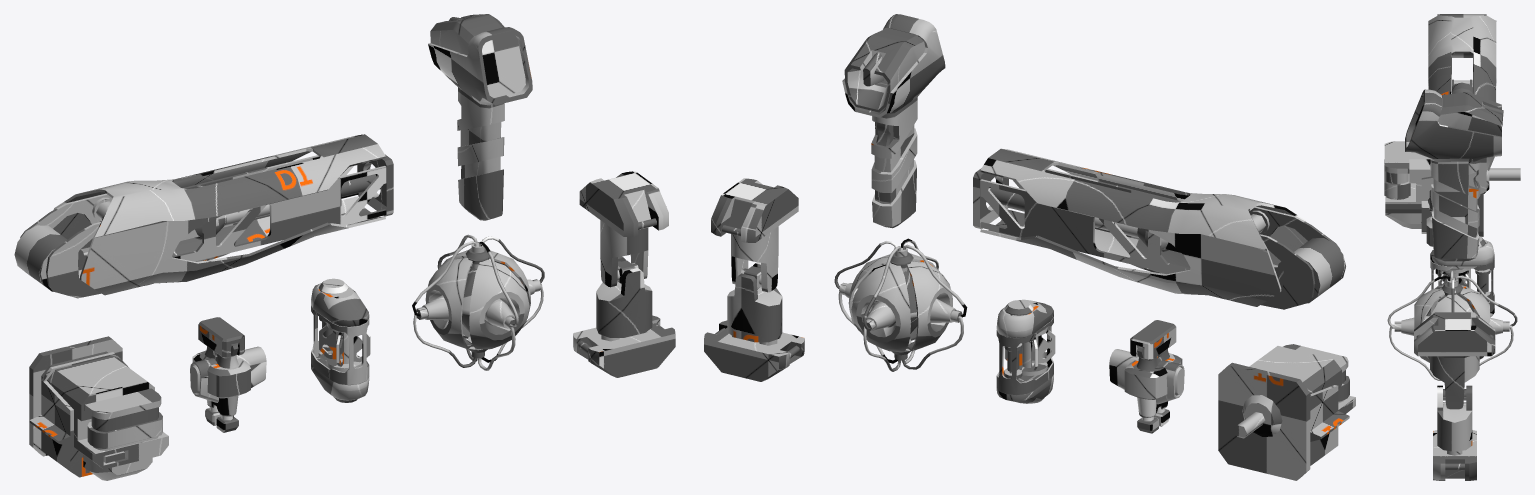
File: Pack_02_Gameready.FBX
3 views of the same model, side by side, from view 1: azimuth 30°, elevation 25°; view 2: azimuth 150°, elevation 25°; view 3: azimuth 270°, elevation 25° (orthographic). The views are drawn at different scales.
Parts seen in each view (by area): view 1: s; view 2: s; view 3: s.
Part boxes in pixels (x1,y1,x2,y2): s: (14, 14, 675, 480); s: (704, 14, 1355, 480); s: (1384, 14, 1520, 480).
Bounding box in the file's own units: 113373 × 64578 × 25149.
